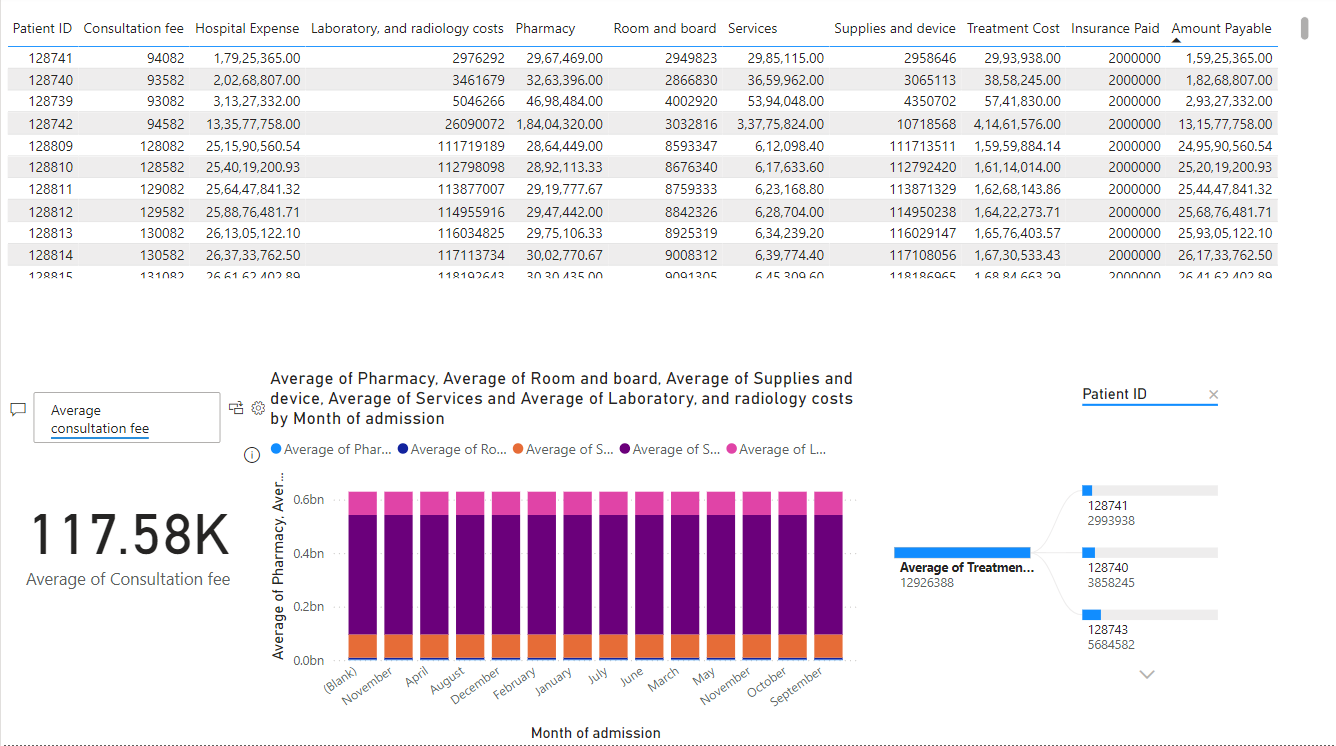

The dashboard page shown, as its layout file describes it:
{"tool":"powerbi","page":{"name":"Page 2","canvas":[1280,720],"ordinal":1},"visuals":[{"type":"tableEx","fields":{"Values":["Patient Details.Patient ID","Hospital Expense.Consultation fee","Hospital Expense.Hospital Expense","Hospital Expense.Laboratory, and radiology costs","Hospital Expense.Pharmacy","Hospital Expense.Room and board","Hospital Expense.Services","Hospital Expense.Supplies and device","Hospital Expense.Treatment Cost","Hospital Expense.Insurance Paid","Hospital Expense.Amount Payable"]},"box":[0,15.9,1259.5,261.1],"z":0},{"type":"qnaVisual","box":[0,356.4,253.9,251],"z":1000},{"type":"columnChart","fields":{"Y":["Avg(Hospital Expense.Pharmacy)","Avg(Hospital Expense.Room and board)","Avg(Hospital Expense.Supplies and device)","Avg(Hospital Expense.Services)","Avg(Hospital Expense.Laboratory, and radiology costs)"],"Category":["Patient Details.Month of admission"]},"box":[253.3,356.7,573.3,363.3],"z":2000},{"type":"decompositionTreeVisual","fields":{"Analyze":["Avg(Hospital Expense.Treatment Cost)"],"ExplainBy":["Hospital Expense.Patient ID"]},"box":[826.7,356.7,433.3,333.3],"z":3000}]}

Visuals, with their boxes on the page's 1280x720 design canvas (x1, y1, x2, y2). These are canvas units, not pixel positions in the 1336x746 screenshot, which may show the page scaled, cropped or inside an application window:
tableEx - Patient Details.Patient ID x Hospital Expense.Consultation fee: bbox=[0, 16, 1260, 277]
qnaVisual: bbox=[0, 356, 254, 607]
columnChart - Avg(Hospital Expense.Pharmacy) x Avg(Hospital Expense.Room and board): bbox=[253, 357, 827, 720]
decompositionTreeVisual - Avg(Hospital Expense.Treatment Cost) x Hospital Expense.Patient ID: bbox=[827, 357, 1260, 690]
